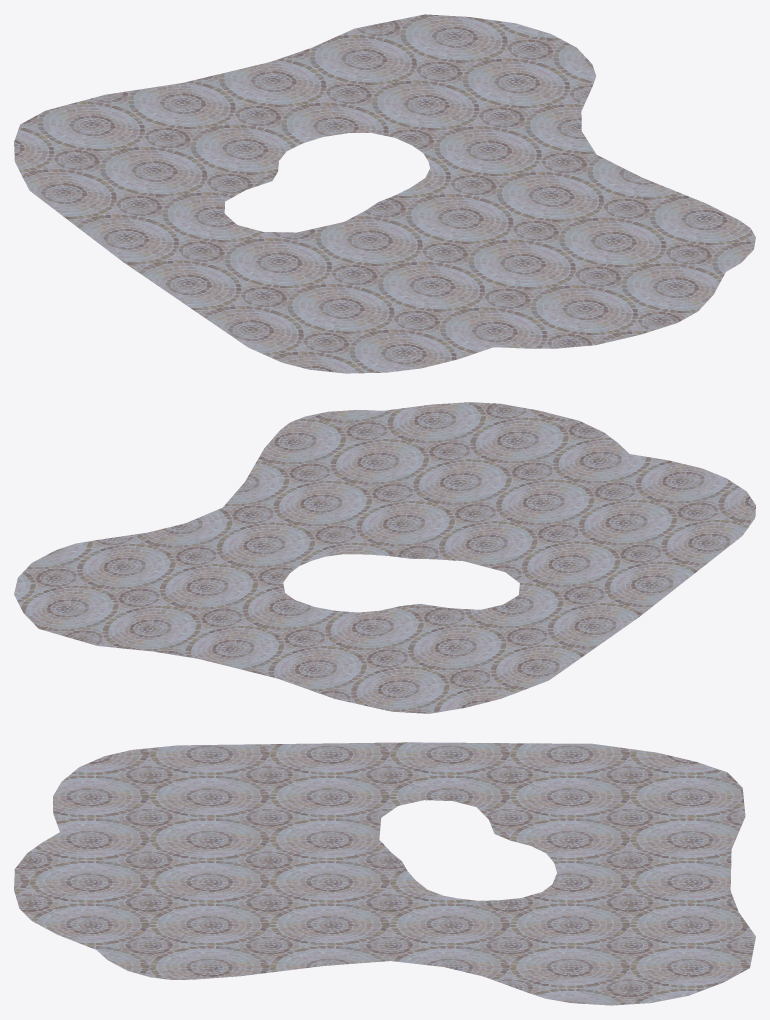
Rendered from zhucheng_gongyuan03di.FBX.
3 renders of one model, top to bottom at view 1: azimuth 30°, elevation 25°; view 2: azimuth 150°, elevation 25°; view 3: azimuth 270°, elevation 25°, orthographic. The views are drawn at different scales.
Parts seen in each view (by area): view 1: zhucheng_gongyuan03di; view 2: zhucheng_gongyuan03di; view 3: zhucheng_gongyuan03di.
Boxes of the visible parts, bbox=[...] form: zhucheng_gongyuan03di: bbox=[14, 14, 755, 373]; zhucheng_gongyuan03di: bbox=[14, 402, 755, 713]; zhucheng_gongyuan03di: bbox=[14, 742, 755, 1005].
Size of the model in its own units: 3492 by 1.63 by 4160.
